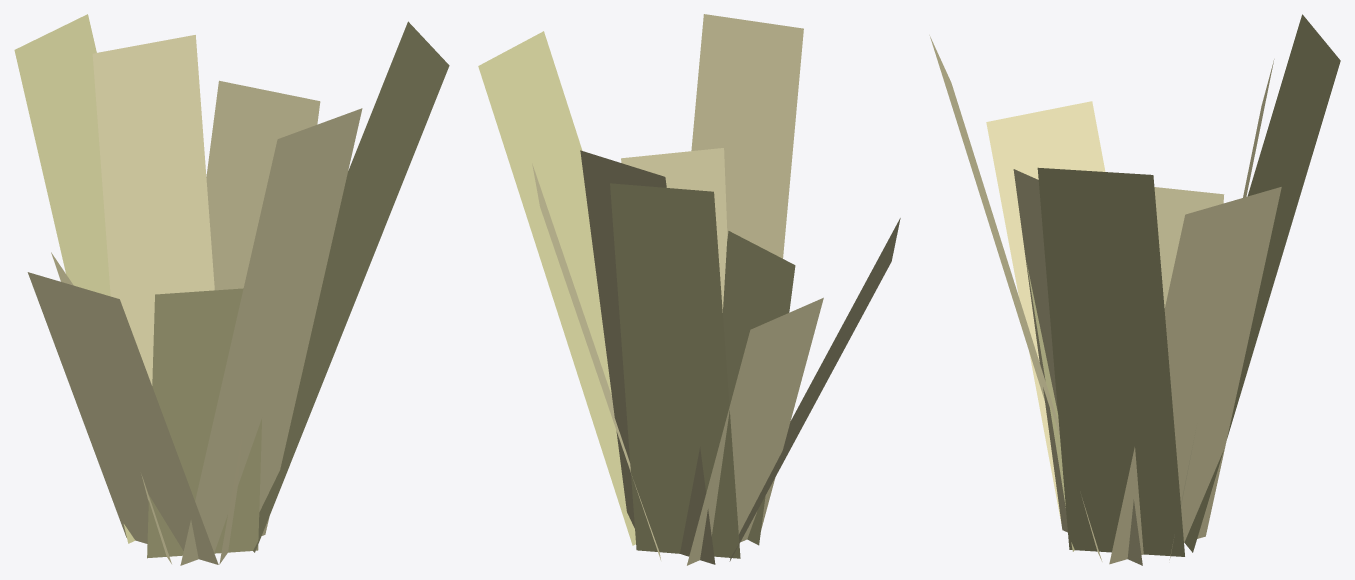
File: plant_tuft_a.glb
3 renders of one model, left to right at view 1: azimuth 30°, elevation 25°; view 2: azimuth 150°, elevation 25°; view 3: azimuth 270°, elevation 25°, orthographic. The views are drawn at different scales.
Visible parts, largest first — view 1: plant_tuft_a; view 2: plant_tuft_a; view 3: plant_tuft_a.
Boxes of the visible parts, x1,y1,x2,y2 form: plant_tuft_a: (14, 14, 449, 565); plant_tuft_a: (478, 14, 900, 565); plant_tuft_a: (929, 14, 1340, 565).
Size of the model in its own units: 0.9256 by 1.02 by 0.7736.
